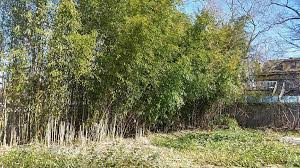bamboo: (3, 5, 137, 141), (130, 4, 229, 127)
